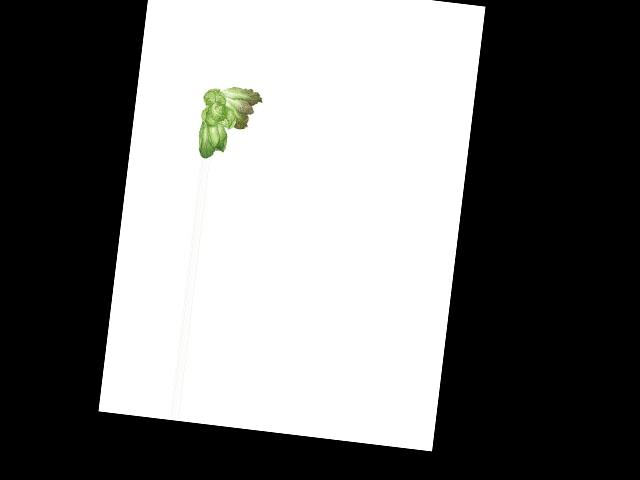lettuce: (192, 81, 267, 165)
